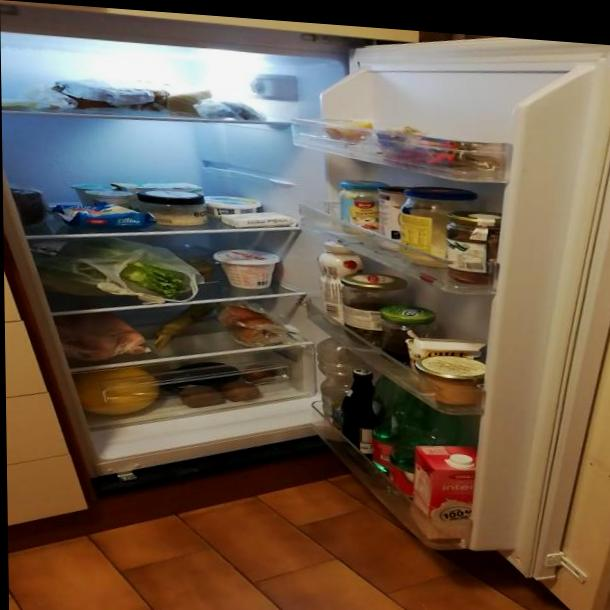apple: (235, 320, 287, 348), (220, 304, 263, 327)
butter: (218, 209, 307, 233)
carrots: (53, 314, 158, 369)
cheese: (66, 201, 152, 236), (143, 204, 216, 231)
lemon: (318, 113, 382, 149)
milk: (409, 444, 481, 542)
yoghurt: (115, 178, 213, 205), (69, 179, 134, 209)
